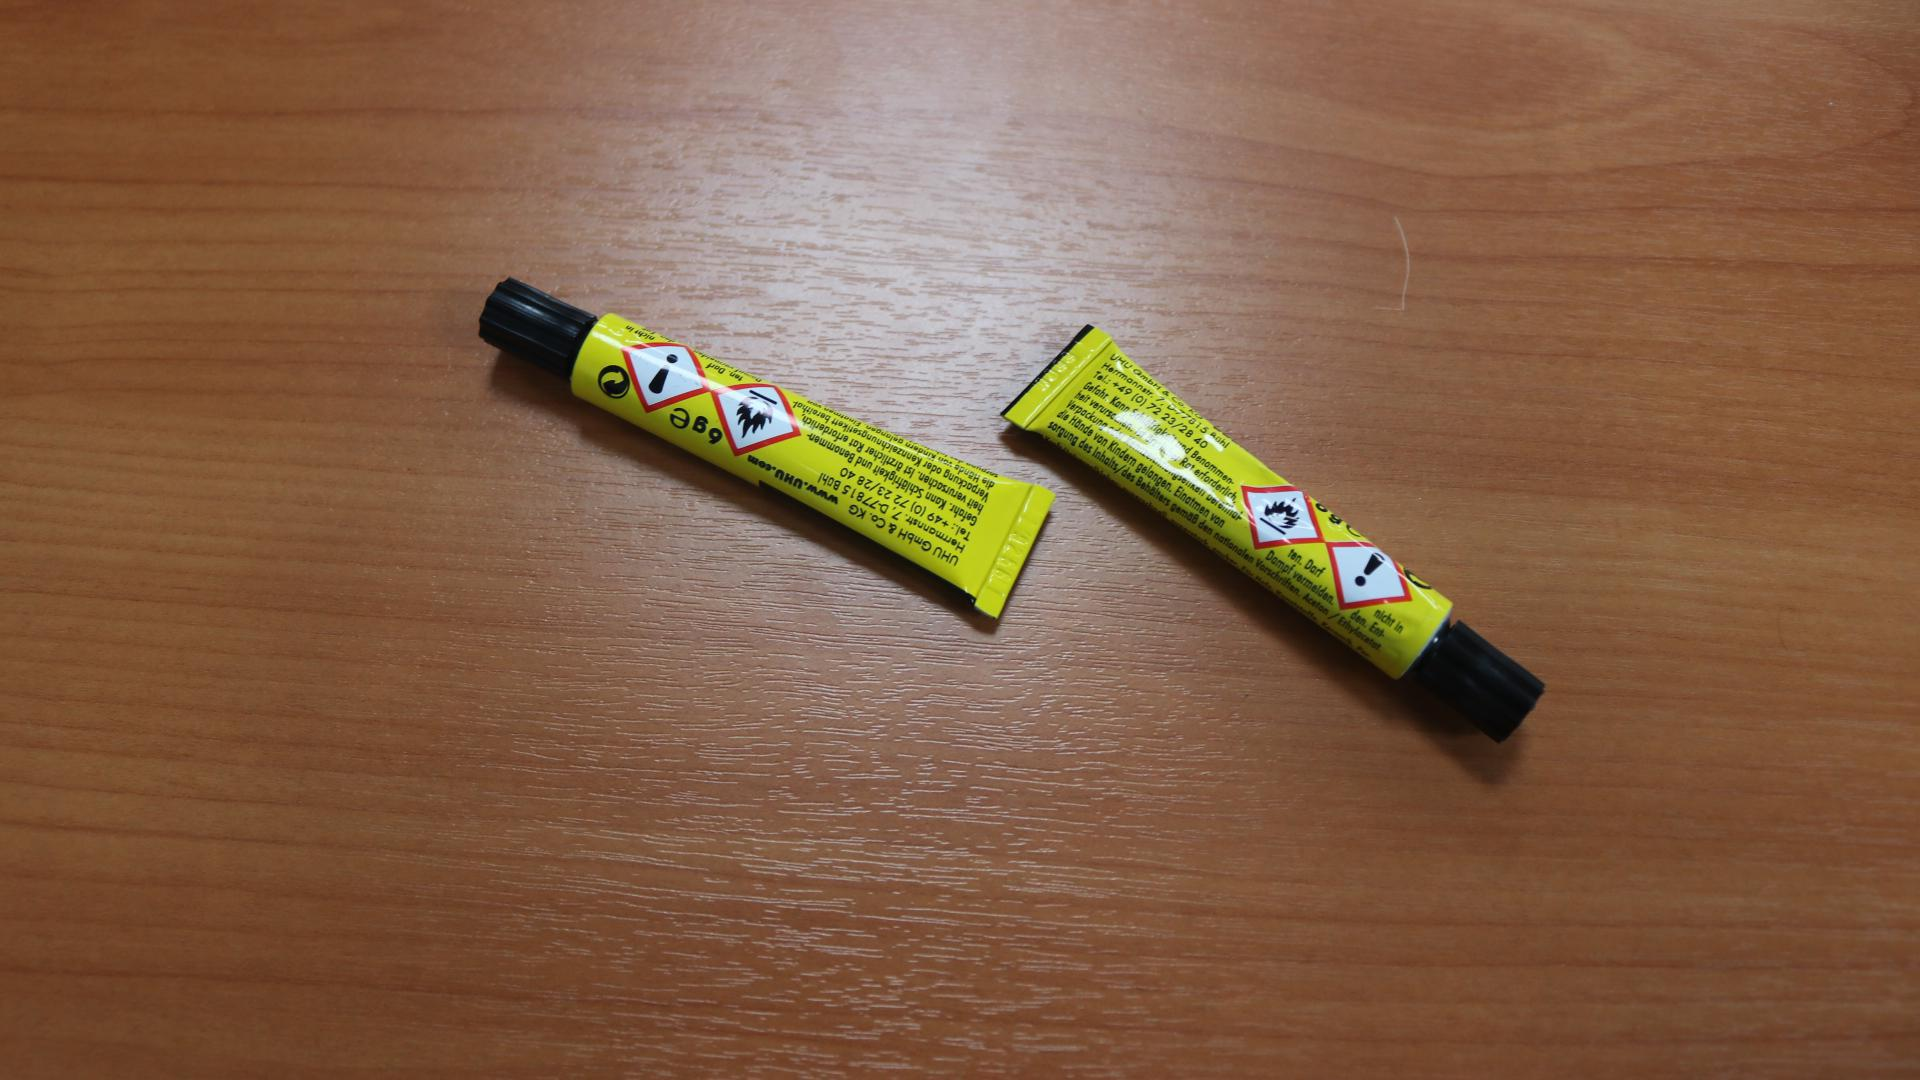Head: (529, 315, 549, 333), (1477, 670, 1494, 688)
Tail: (992, 539, 1001, 550), (1059, 367, 1066, 376)
Tube: (1002, 324, 1543, 741), (478, 276, 1057, 621)
